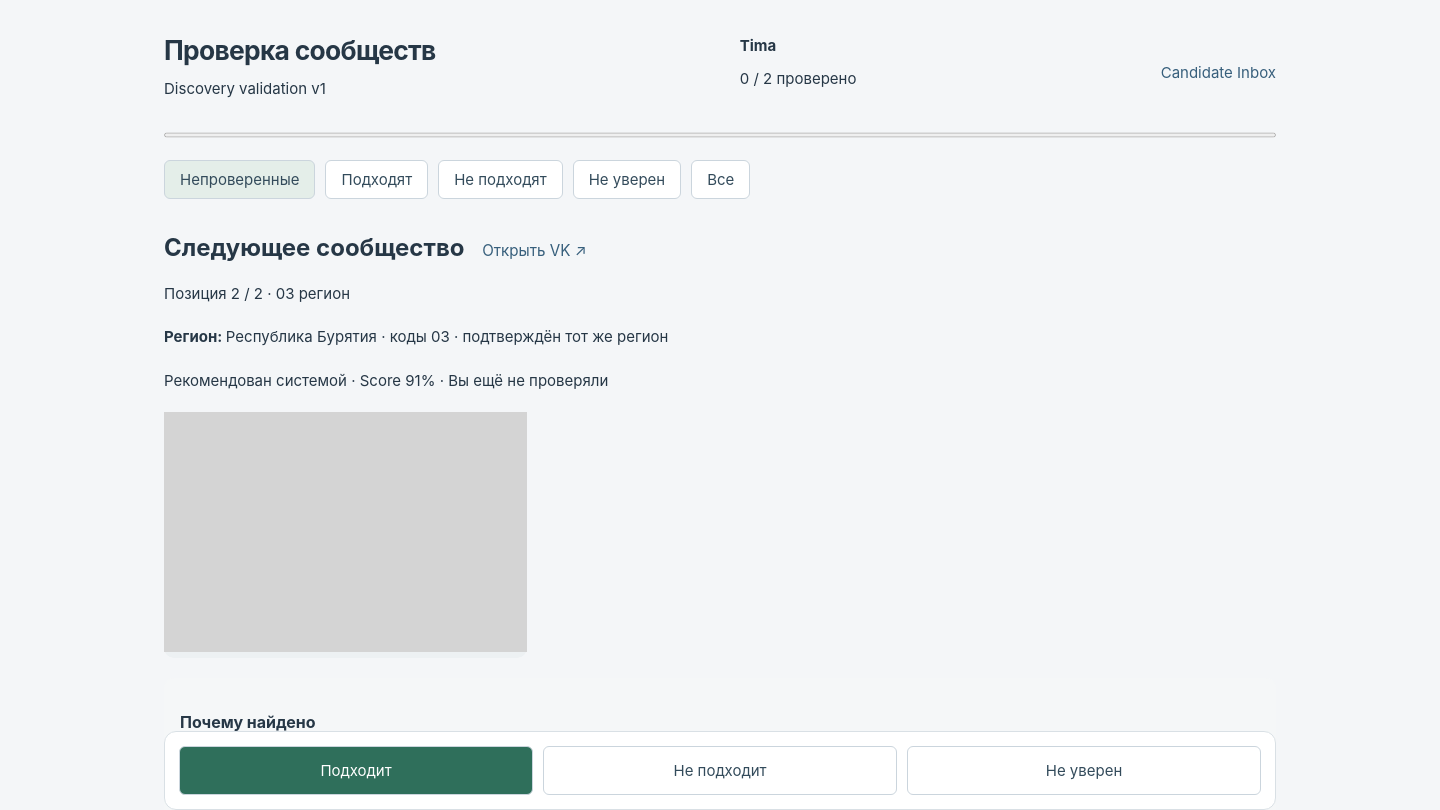
resumes the server cursor and saves filters and previous position
Expected: the heading "Следующее сообщество Открыть VK ↗" is shown, [164,233,587,262]
Press Arrowleft
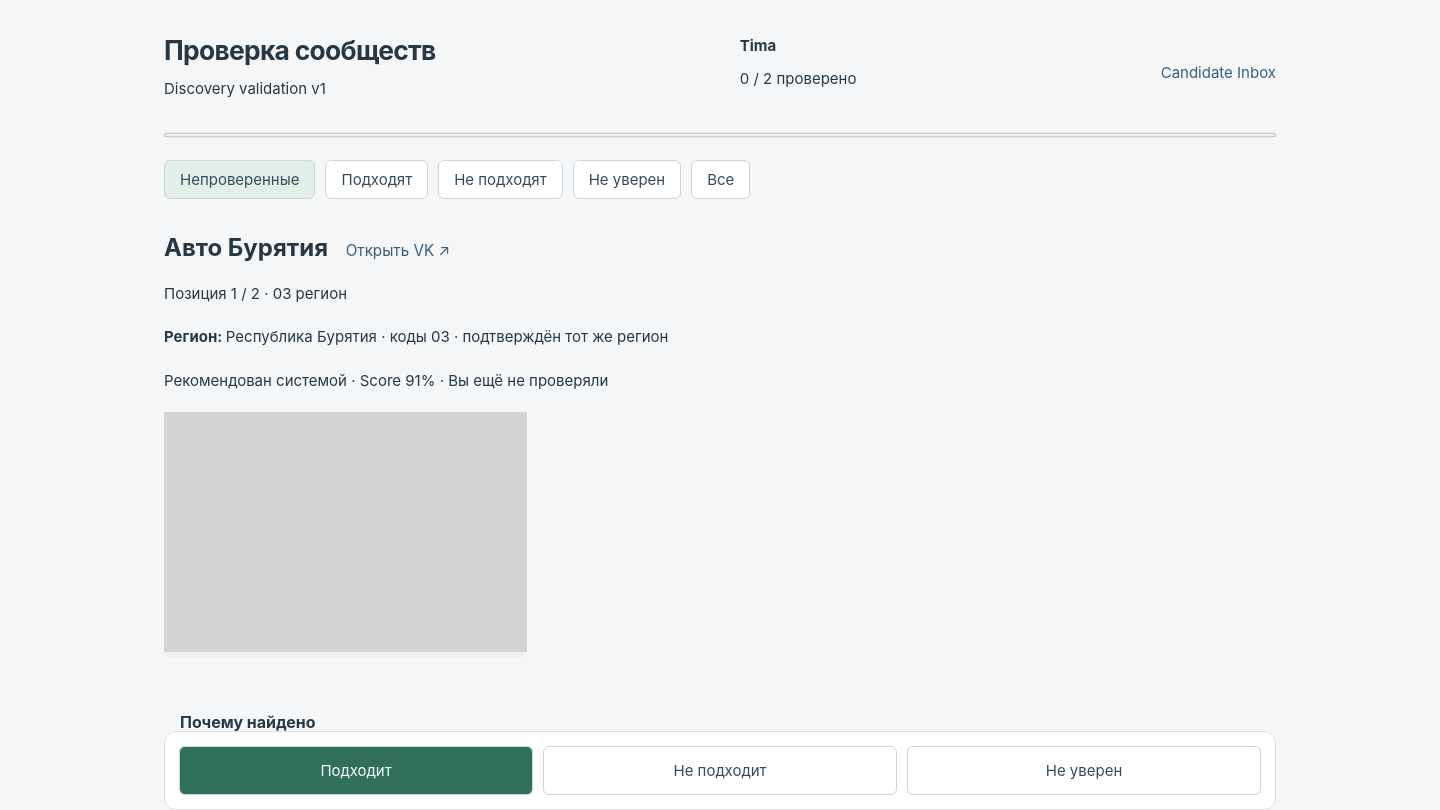
Now the heading "Авто Бурятия Открыть VK ↗" is shown, box [164,233,450,262]
Click the button "Все".
click(721, 179)  # box [691,160,750,199]
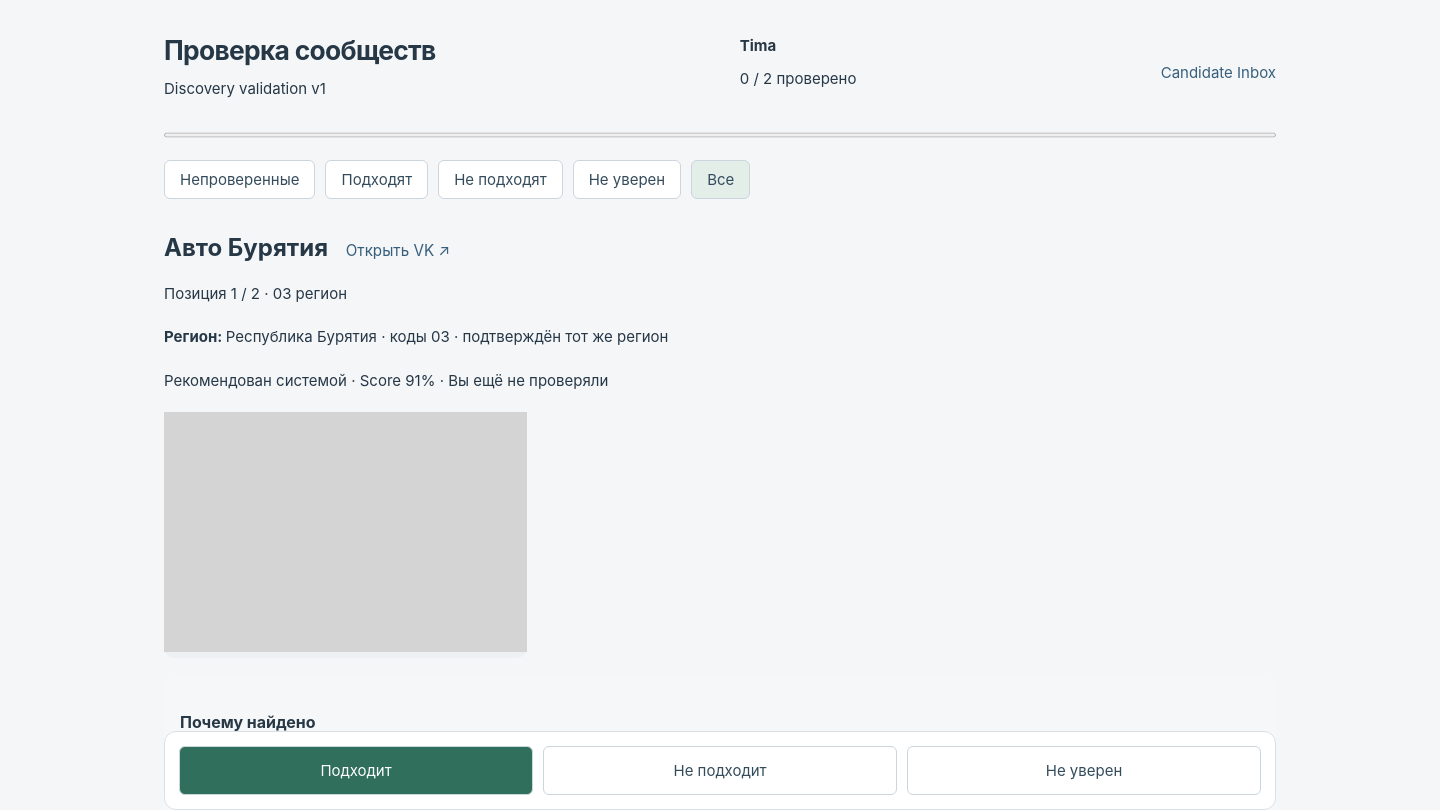
Press Arrowright
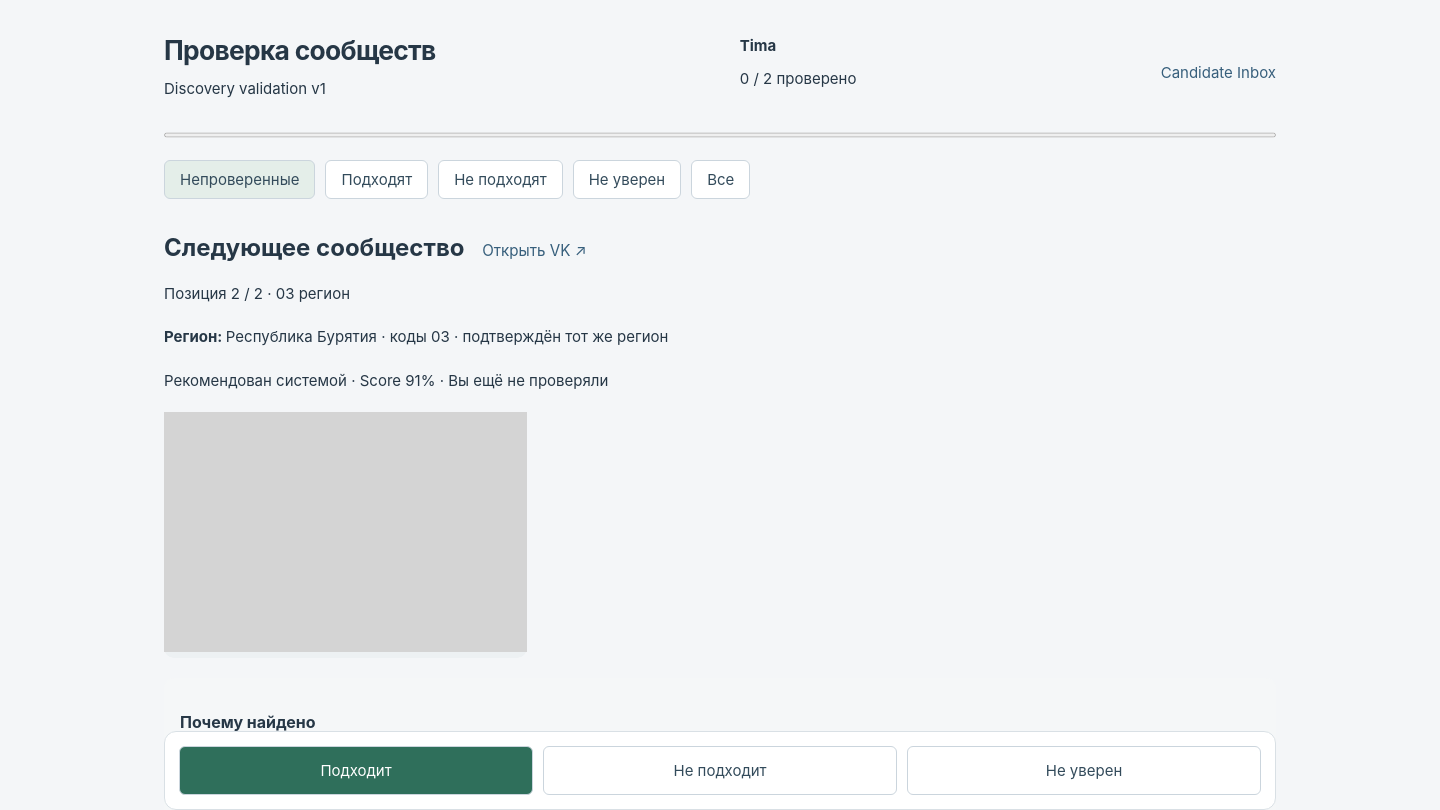
Now the heading "Следующее сообщество Открыть VK ↗" is shown, box [164,233,587,262]
